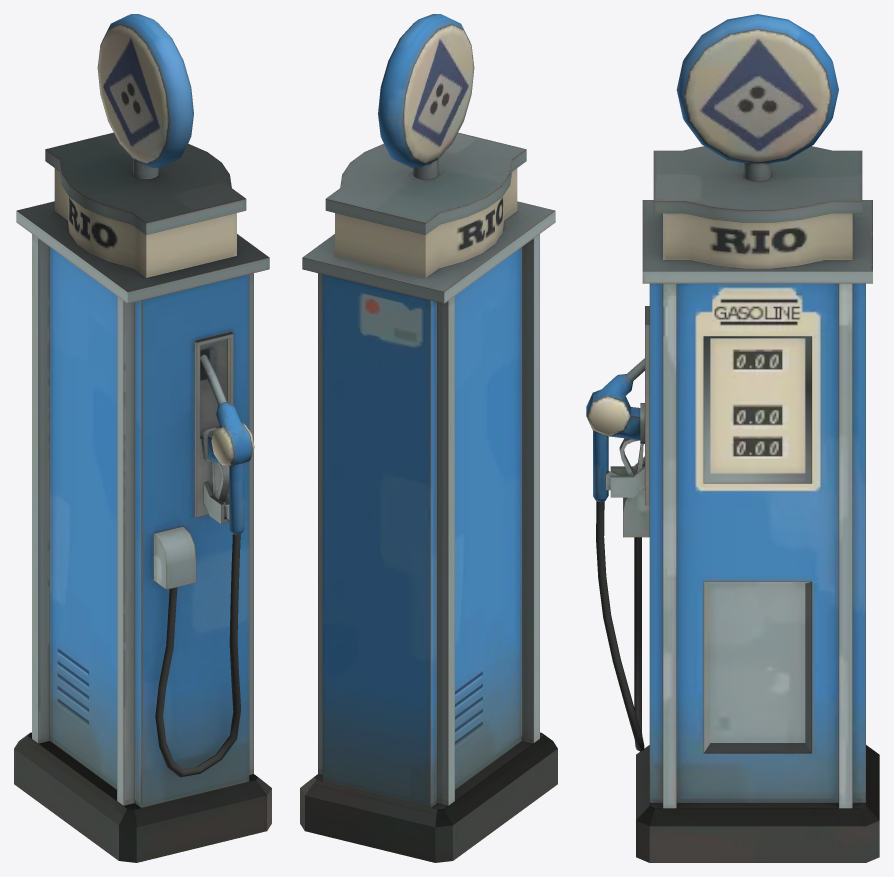
3 views of the same model, side by side, from view 1: azimuth 30°, elevation 25°; view 2: azimuth 150°, elevation 25°; view 3: azimuth 270°, elevation 25° (orthographic). The views are drawn at different scales.
Parts seen in each view (by area): view 1: body0_model0_lod0_mesh0; view 2: body0_model0_lod0_mesh0; view 3: body0_model0_lod0_mesh0.
Boxes of the visible parts, left/top/right/bottom form: body0_model0_lod0_mesh0: left=14, top=14, right=271, bottom=862; body0_model0_lod0_mesh0: left=300, top=14, right=557, bottom=862; body0_model0_lod0_mesh0: left=586, top=14, right=879, bottom=862.
Bounding box in the file's own units: 20.61 × 101 × 33.1.
1 material, 1 textured.
